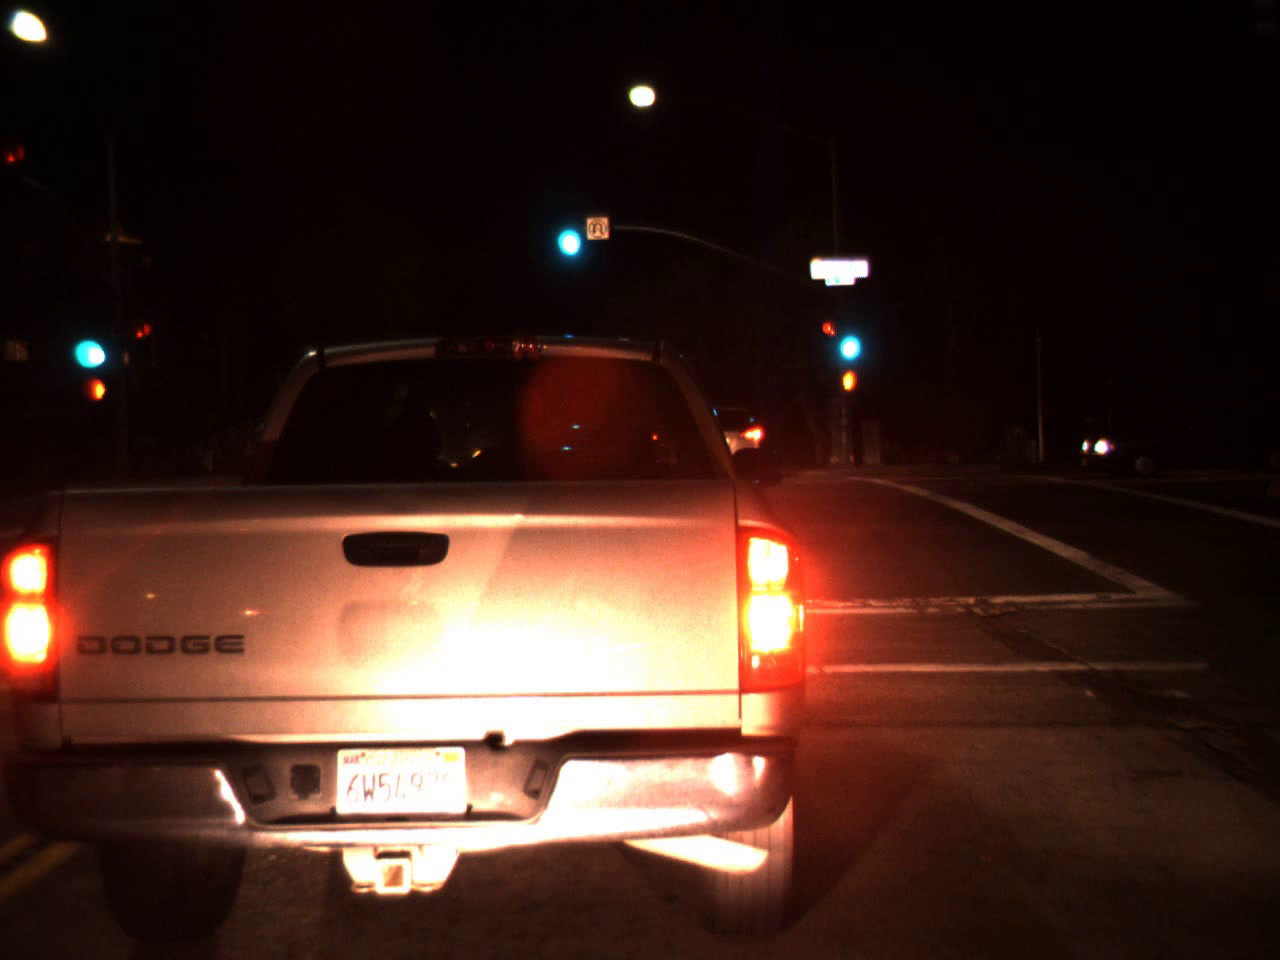go: (63, 304, 108, 379), (548, 195, 585, 267), (830, 304, 866, 370)
